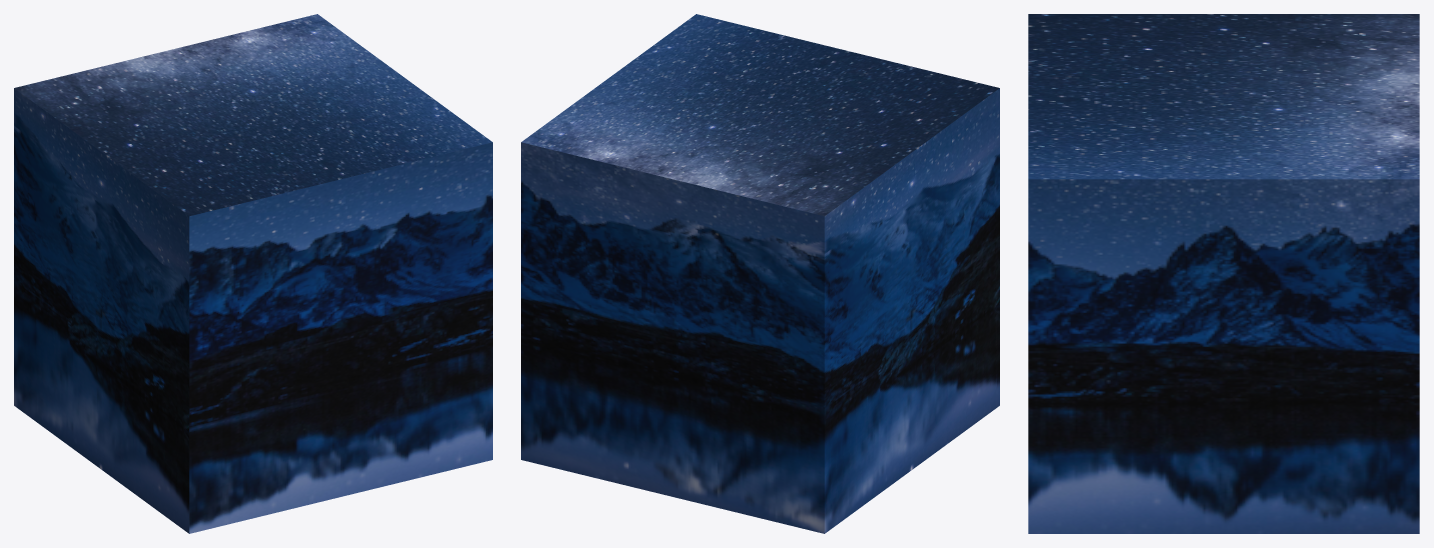
Rendered from StartRoom.fbx.
The picture shows the model from 3 angles, left to right: view 1: azimuth 30°, elevation 25°; view 2: azimuth 150°, elevation 25°; view 3: azimuth 270°, elevation 25°; orthographic projection. The views are drawn at different scales.
Parts seen in each view (by area): view 1: Cube; view 2: Cube; view 3: Cube.
Part boxes in pixels (bbox=[...]): Cube: bbox=[14, 14, 492, 533]; Cube: bbox=[521, 14, 999, 533]; Cube: bbox=[1028, 14, 1419, 533].
Bounding box in the file's own units: 200 × 200 × 200.
Materials: 1 (1 with a texture image).
